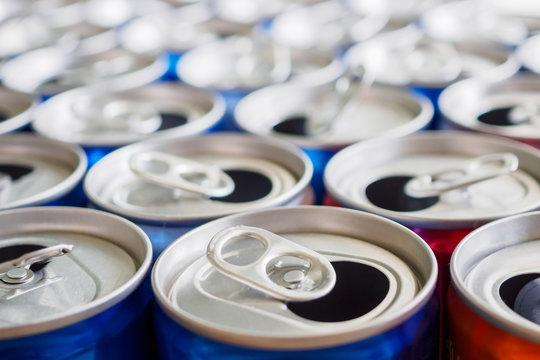metal: (150, 203, 444, 360), (0, 197, 168, 360), (330, 123, 540, 234), (81, 126, 312, 207)
